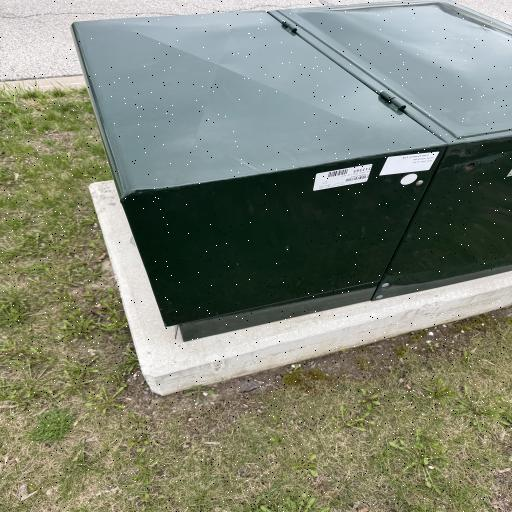Electrical Box: (67, 0, 511, 343)
